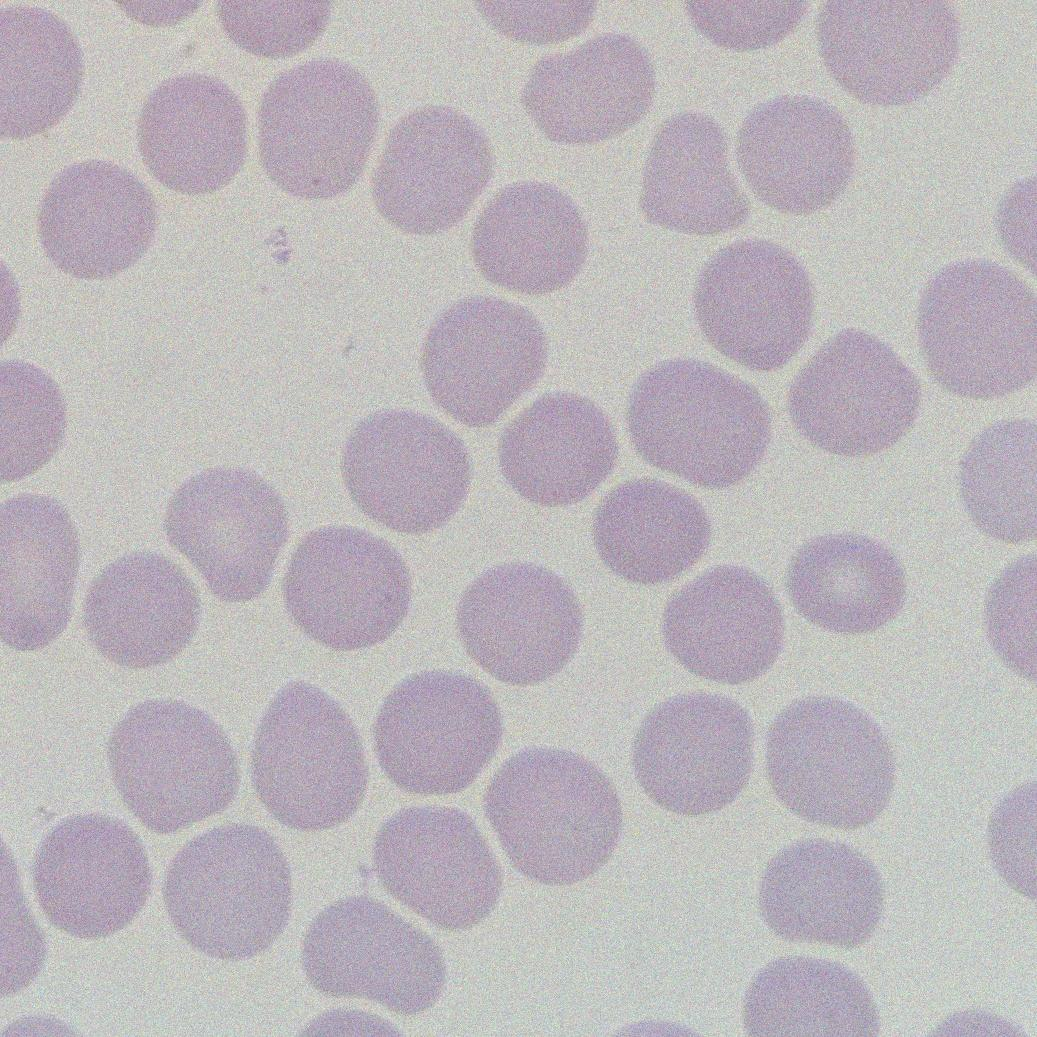Uninfected: (627, 359, 770, 489), (107, 696, 239, 835), (250, 681, 372, 829), (486, 749, 621, 882), (164, 823, 292, 959), (303, 893, 444, 1014), (284, 523, 413, 653), (256, 63, 381, 196), (789, 331, 919, 458), (166, 466, 290, 598), (769, 698, 894, 828), (345, 409, 475, 533), (372, 804, 503, 927), (632, 693, 760, 816), (421, 296, 545, 422), (375, 672, 501, 796), (373, 106, 495, 232), (919, 262, 1033, 396), (460, 561, 584, 683), (700, 241, 813, 370), (663, 566, 785, 685), (737, 96, 856, 217), (36, 813, 152, 937), (37, 160, 157, 279), (523, 36, 654, 145), (137, 72, 253, 194), (636, 112, 749, 235), (83, 551, 198, 669), (824, 2, 957, 104), (761, 839, 882, 946), (471, 183, 586, 295), (501, 394, 616, 506), (786, 532, 907, 636), (597, 479, 712, 586)
